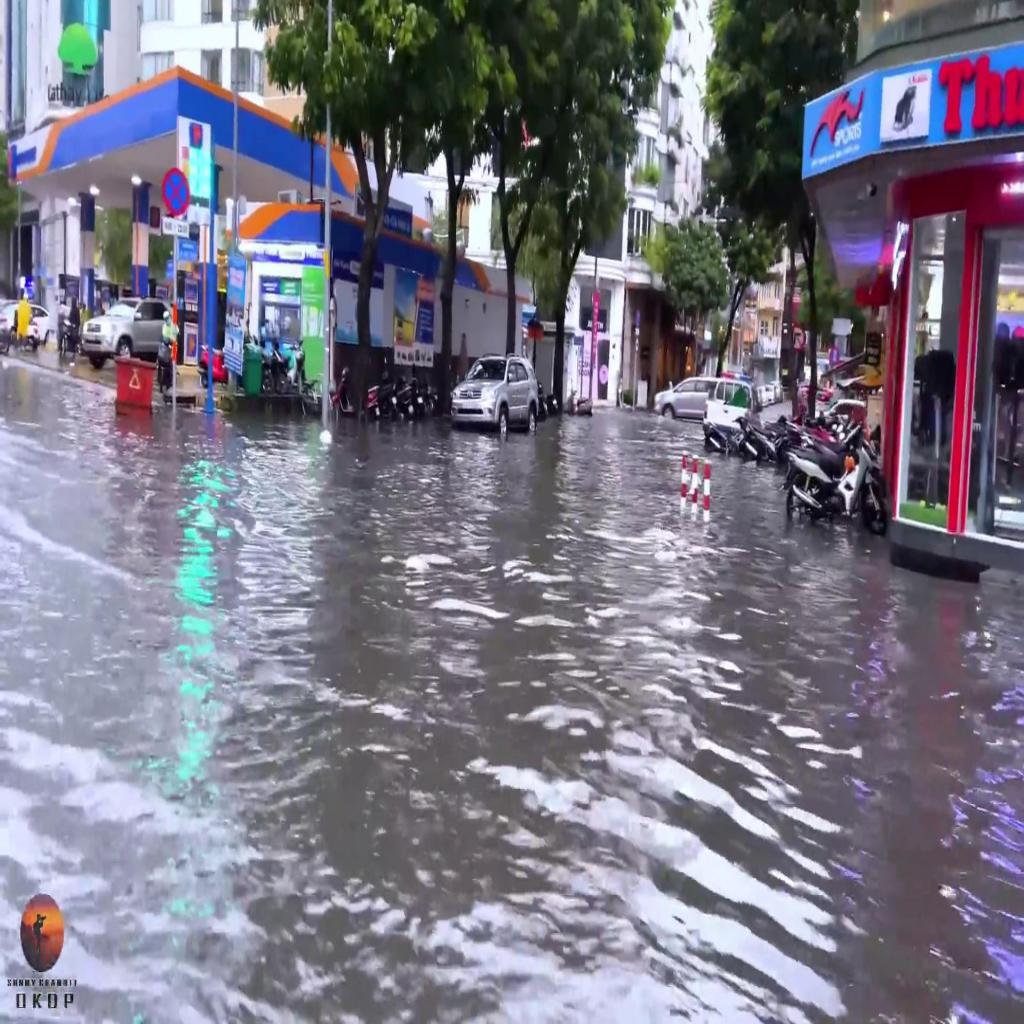cam_do_xe: (830, 348, 840, 363)
cam_dung_xe_va_do_xe: (162, 167, 189, 216)
cam_re_trai: (792, 323, 806, 351)
khac: (162, 216, 189, 238)
